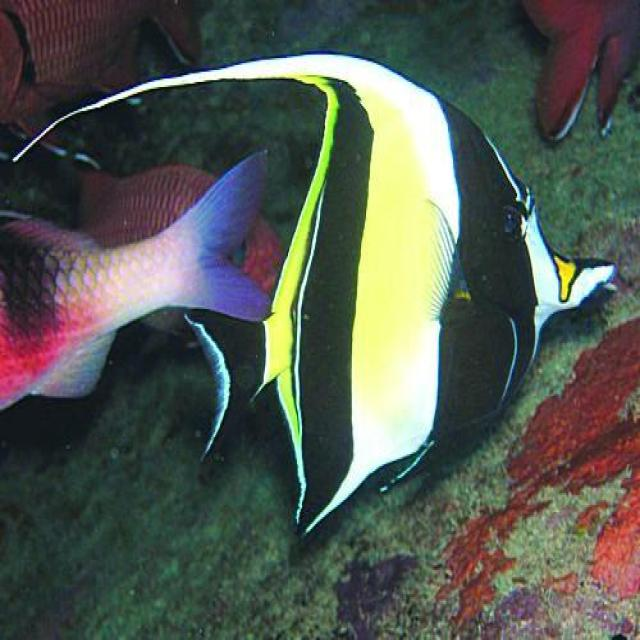MorishIdol: (8, 48, 618, 543)
